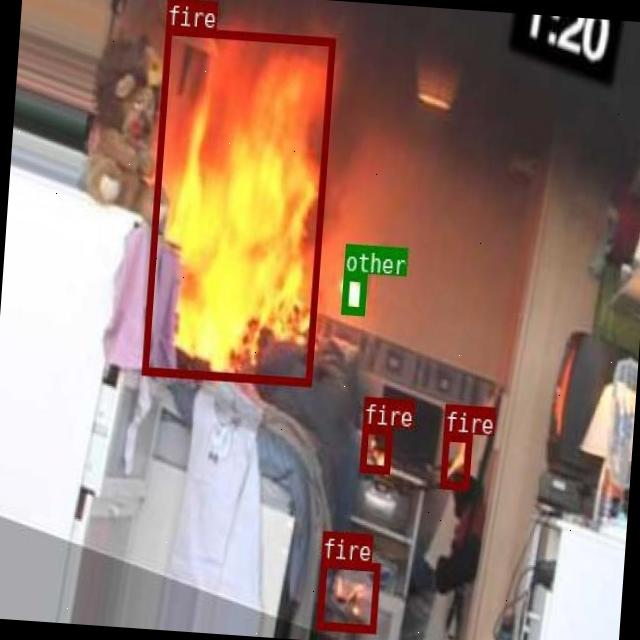fire: (140, 24, 335, 384), (316, 558, 380, 632), (440, 431, 470, 488), (358, 424, 391, 472)
